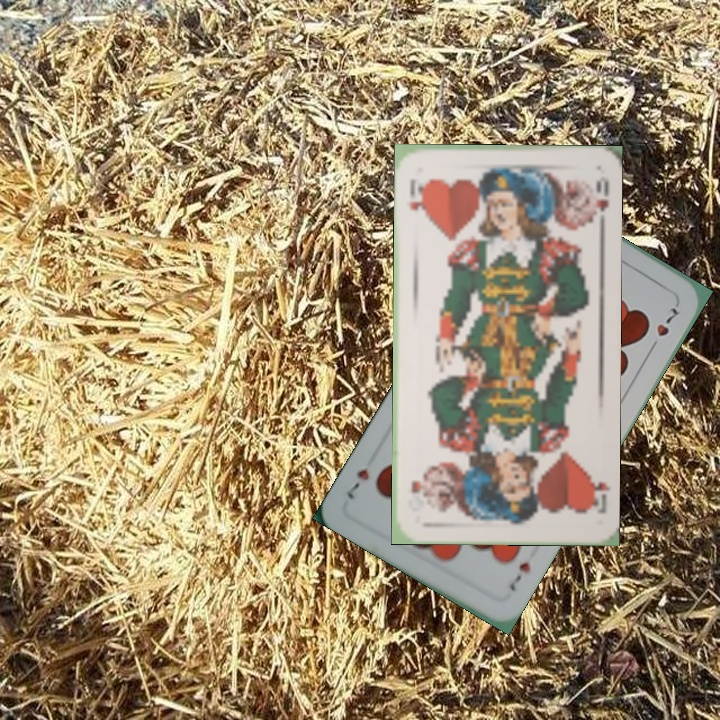H7: (504, 557, 534, 593)
HO: (584, 470, 611, 517), (405, 175, 428, 221)
